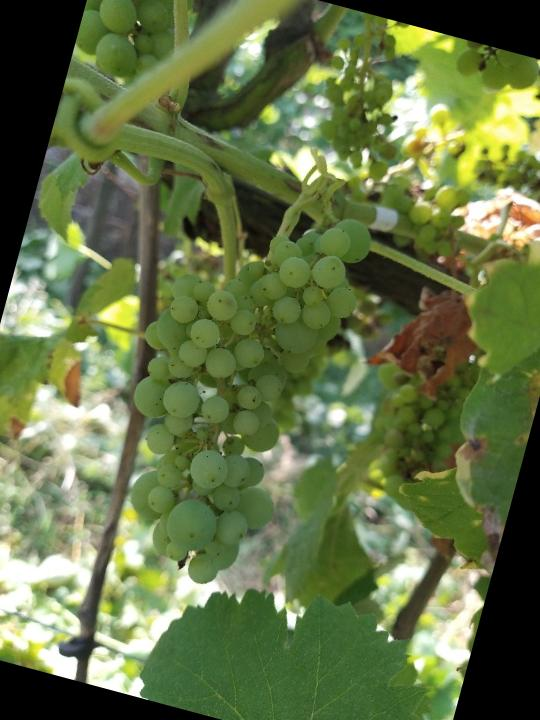grape: (87, 175, 380, 603)
